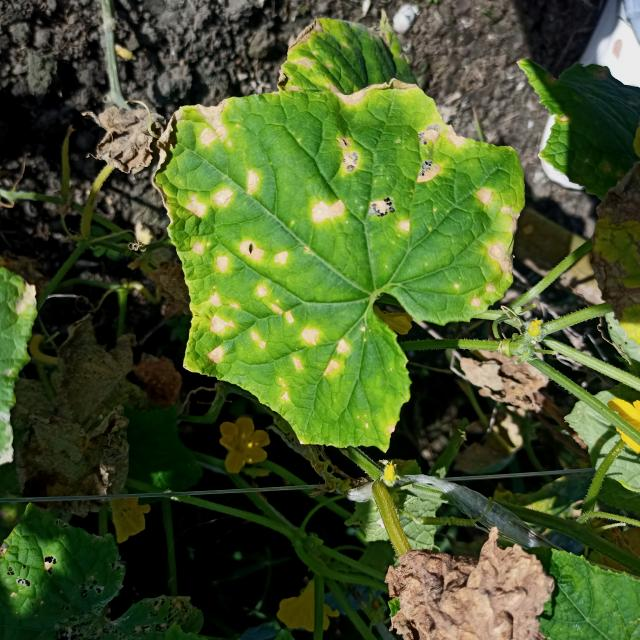disease_cucumber: (166, 92, 517, 411)
